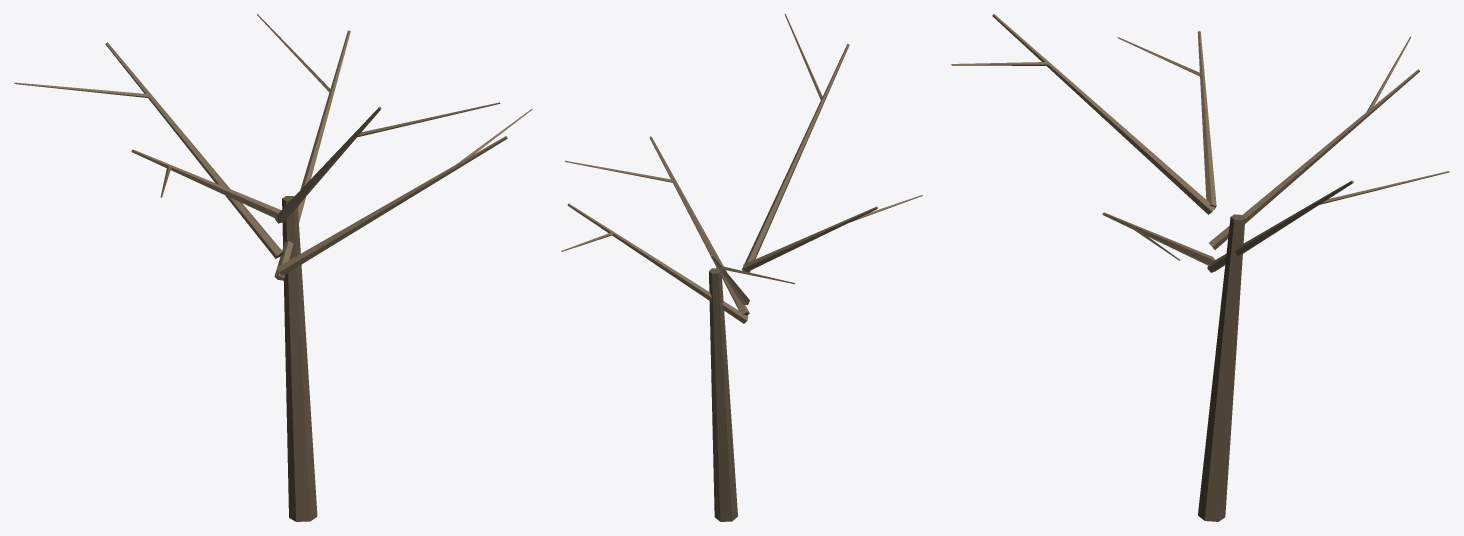
File: columnar-v2-winter.glb
3 views of the same model, side by side, from view 1: azimuth 30°, elevation 25°; view 2: azimuth 150°, elevation 25°; view 3: azimuth 270°, elevation 25° (orthographic). The views are drawn at different scales.
Visible parts, largest first — view 1: columnar_v2; view 2: columnar_v2; view 3: columnar_v2.
Boxes of the visible parts, x1,y1,x2,y2 form: columnar_v2: (14, 14, 532, 521); columnar_v2: (561, 14, 922, 521); columnar_v2: (951, 14, 1449, 521).
Size of what is drawn, in the model's own units: 8.5 by 10.12 by 9.4.
